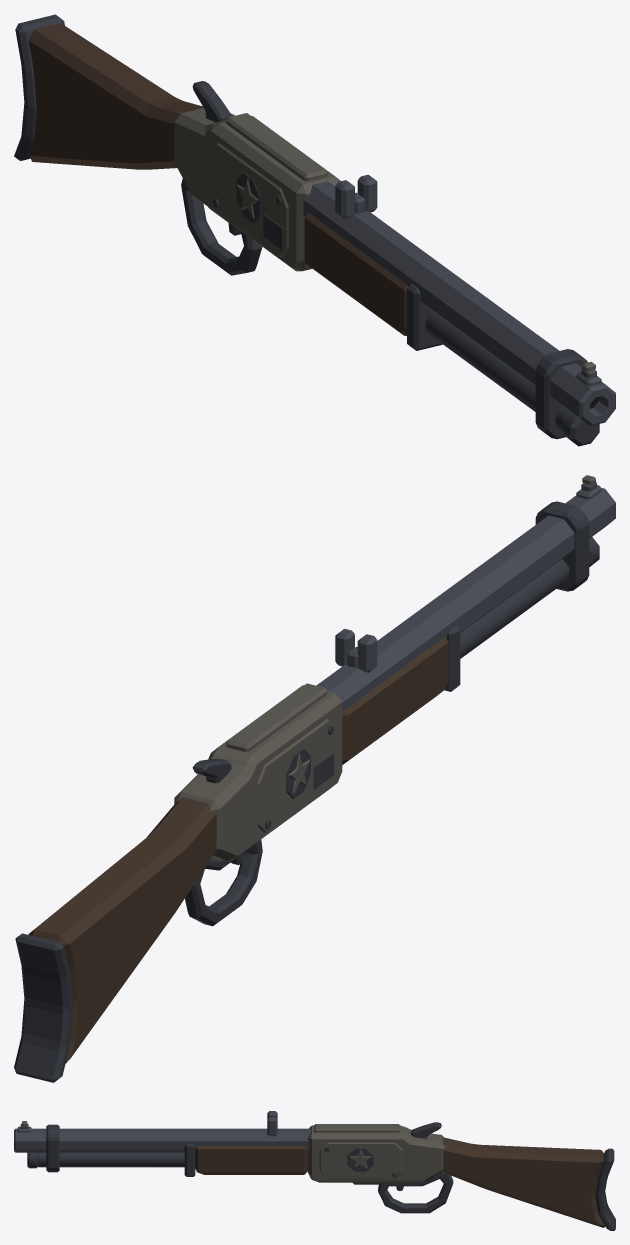
File: w_lever.glb
The picture shows the model from 3 angles, top to bottom: view 1: azimuth 30°, elevation 25°; view 2: azimuth 150°, elevation 25°; view 3: azimuth 270°, elevation 25°; orthographic projection. The views are drawn at different scales.
Visible parts, largest first — view 1: stock_wzA__wood__p43352b, barrel_wzB__frame__p444851, body_wzA__body__p5a5750, body_wzN__body__p5a5750, barrel_wzB__dark__p353840, fore_wzA__wood__p43352b, lever_wzN__dark__p353840, stock_wzB__dark__p353840, sight_wzN__frame__p444851, fore_wzN__dark__p353840, lhammer_wzN__dark__p353840, star_wzN__dark__p353840; view 2: stock_wzA__wood__p43352b, barrel_wzB__frame__p444851, body_wzA__body__p5a5750, stock_wzB__dark__p353840, body_wzN__body__p5a5750, fore_wzA__wood__p43352b, barrel_wzB__dark__p353840, lever_wzN__dark__p353840, sight_wzN__frame__p444851, fore_wzN__dark__p353840; view 3: stock_wzA__wood__p43352b, barrel_wzB__frame__p444851, body_wzA__body__p5a5750, body_wzN__body__p5a5750, fore_wzA__wood__p43352b, barrel_wzB__dark__p353840, lever_wzN__dark__p353840, stock_wzB__dark__p353840, fore_wzN__dark__p353840, sight_wzN__frame__p444851, star_wzN__dark__p353840, lhammer_wzN__dark__p353840 (+1 smaller).
Part boxes in pixels (x1,y1,x2,y2): stock_wzA__wood__p43352b: (28, 23, 203, 169); barrel_wzB__frame__p444851: (303, 181, 615, 425); body_wzA__body__p5a5750: (174, 108, 340, 271); body_wzN__body__p5a5750: (210, 113, 327, 256); barrel_wzB__dark__p353840: (425, 311, 599, 446); fore_wzA__wood__p43352b: (304, 212, 408, 335); lever_wzN__dark__p353840: (181, 178, 262, 275); stock_wzB__dark__p353840: (14, 14, 64, 160); sight_wzN__frame__p444851: (335, 174, 601, 385); fore_wzN__dark__p353840: (407, 284, 442, 350); lhammer_wzN__dark__p353840: (192, 81, 231, 122); star_wzN__dark__p353840: (236, 172, 260, 223); stock_wzA__wood__p43352b: (28, 797, 216, 1063); barrel_wzB__frame__p444851: (316, 488, 615, 718); body_wzA__body__p5a5750: (174, 685, 342, 860); stock_wzB__dark__p353840: (14, 933, 73, 1082); body_wzN__body__p5a5750: (226, 683, 335, 832); fore_wzA__wood__p43352b: (342, 637, 448, 764); barrel_wzB__dark__p353840: (460, 501, 599, 658); lever_wzN__dark__p353840: (185, 839, 262, 926); sight_wzN__frame__p444851: (335, 482, 601, 672); fore_wzN__dark__p353840: (444, 625, 460, 691); stock_wzA__wood__p43352b: (443, 1137, 605, 1227); barrel_wzB__frame__p444851: (14, 1128, 310, 1152); body_wzA__body__p5a5750: (308, 1125, 445, 1182); body_wzN__body__p5a5750: (314, 1124, 402, 1179); fore_wzA__wood__p43352b: (195, 1146, 307, 1174); barrel_wzB__dark__p353840: (27, 1124, 184, 1172); lever_wzN__dark__p353840: (353, 1171, 453, 1213); stock_wzB__dark__p353840: (595, 1148, 615, 1230); fore_wzN__dark__p353840: (184, 1143, 195, 1176); sight_wzN__frame__p444851: (17, 1111, 277, 1136); star_wzN__dark__p353840: (347, 1148, 373, 1171); lhammer_wzN__dark__p353840: (411, 1122, 441, 1138).
Bounding box in the file's own units: 0.066 × 0.242 × 1.19.
